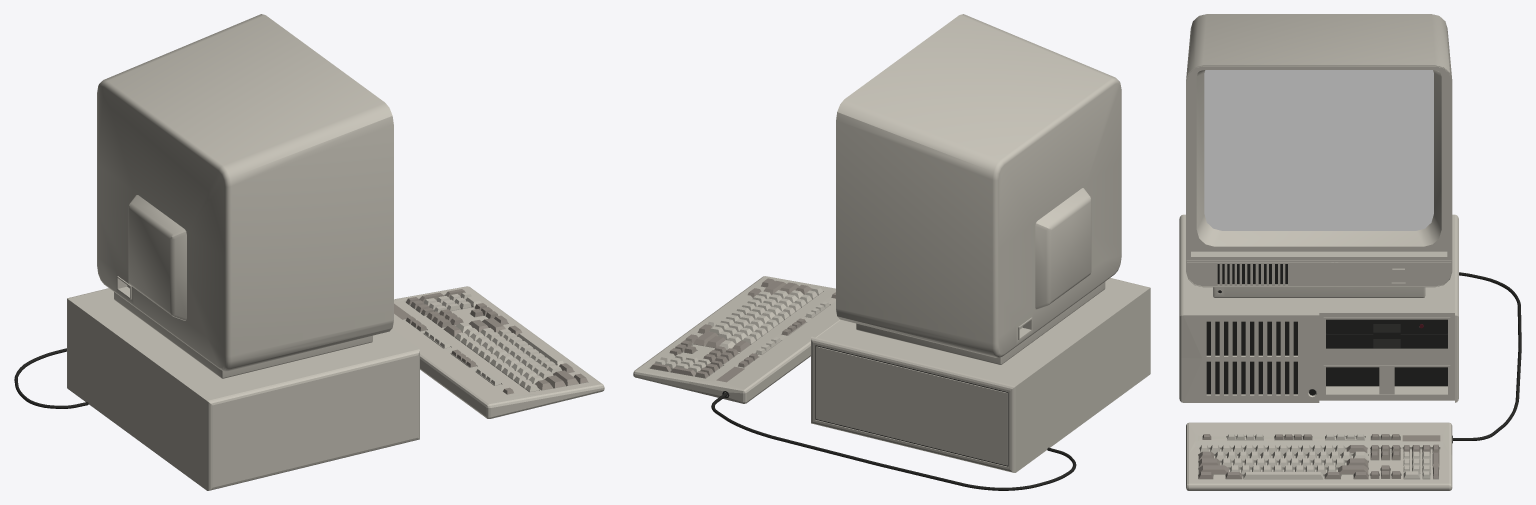
The model's file is cube.mobile.glb.
The picture shows the model from 3 angles, left to right: view 1: azimuth 30°, elevation 25°; view 2: azimuth 150°, elevation 25°; view 3: azimuth 270°, elevation 25°; orthographic projection. The views are drawn at different scales.
Parts seen in each view (by area): view 1: Object_12.3153, Object_12.2769, Object_12.3117, Object_12.2774, Object_12.2942, Object_12.3156, Object_12.2871, Object_12.3154, Object_12.089, Object_12.2781, Object_12.2819, Object_12.2772 (+3 smaller); view 2: Object_12.3153, Object_12.3110, Object_12.2770, Object_12.2774, Object_12.2871, Object_12.3156, Object_12.2819, Object_12.2942, Object_12.3154, Object_12.2922, Object_12.2781, Object_12.089 (+4 smaller); view 3: Front Screen, Object_12.3153, Object_12.3285, Object_12.3159, Object_12.3152, Object_12.2773, Object_12.3157, Object_12.2942, Object_12.3154, Object_12.089, Object_12.3242, Object_12.3158 (+27 smaller).
Part boxes in pixels (bbox=[...]): Object_12.3153: bbox=[97, 14, 393, 371]; Object_12.2769: bbox=[212, 355, 417, 447]; Object_12.3117: bbox=[212, 398, 417, 487]; Object_12.2774: bbox=[67, 299, 143, 444]; Object_12.2942: bbox=[146, 329, 418, 400]; Object_12.3156: bbox=[128, 195, 186, 320]; Object_12.2871: bbox=[146, 356, 206, 490]; Object_12.3154: bbox=[114, 292, 372, 378]; Object_12.089: bbox=[400, 332, 505, 403]; Object_12.2781: bbox=[67, 299, 95, 364]; Object_12.2819: bbox=[68, 288, 128, 318]; Object_12.2772: bbox=[109, 321, 170, 349]; Object_12.3153: bbox=[836, 14, 1121, 357]; Object_12.3110: bbox=[816, 346, 1006, 430]; Object_12.2770: bbox=[816, 382, 1006, 465]; Object_12.2774: bbox=[1015, 332, 1089, 472]; Object_12.2871: bbox=[1091, 288, 1150, 417]; Object_12.3156: bbox=[1035, 188, 1091, 309]; Object_12.2819: bbox=[817, 320, 1042, 386]; Object_12.2942: bbox=[1059, 278, 1149, 330]; Object_12.3154: bbox=[856, 282, 1105, 364]; Object_12.2922: bbox=[813, 342, 1010, 469]; Object_12.2781: bbox=[1016, 367, 1042, 429]; Object_12.089: bbox=[764, 305, 839, 361]; Front Screen: bbox=[1204, 70, 1433, 230]; Object_12.3153: bbox=[1186, 14, 1452, 79]; Object_12.3285: bbox=[1196, 70, 1441, 246]; Object_12.3159: bbox=[1187, 262, 1451, 286]; Object_12.3152: bbox=[1191, 70, 1447, 251]; Object_12.2773: bbox=[1319, 313, 1454, 400]; Object_12.3157: bbox=[1187, 66, 1451, 260]; Object_12.2942: bbox=[1183, 214, 1302, 315]; Object_12.3154: bbox=[1213, 287, 1425, 297]; Object_12.089: bbox=[1189, 423, 1372, 433]; Object_12.3242: bbox=[1186, 65, 1452, 287]; Object_12.3158: bbox=[1191, 251, 1447, 256].
Bounding box in the file's own units: 6.03 × 4.29 × 4.08.
4 materials, 2 textured.
